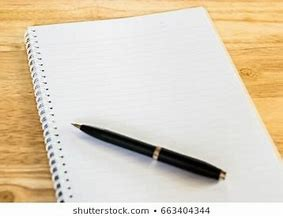pen: (65, 121, 229, 178)
